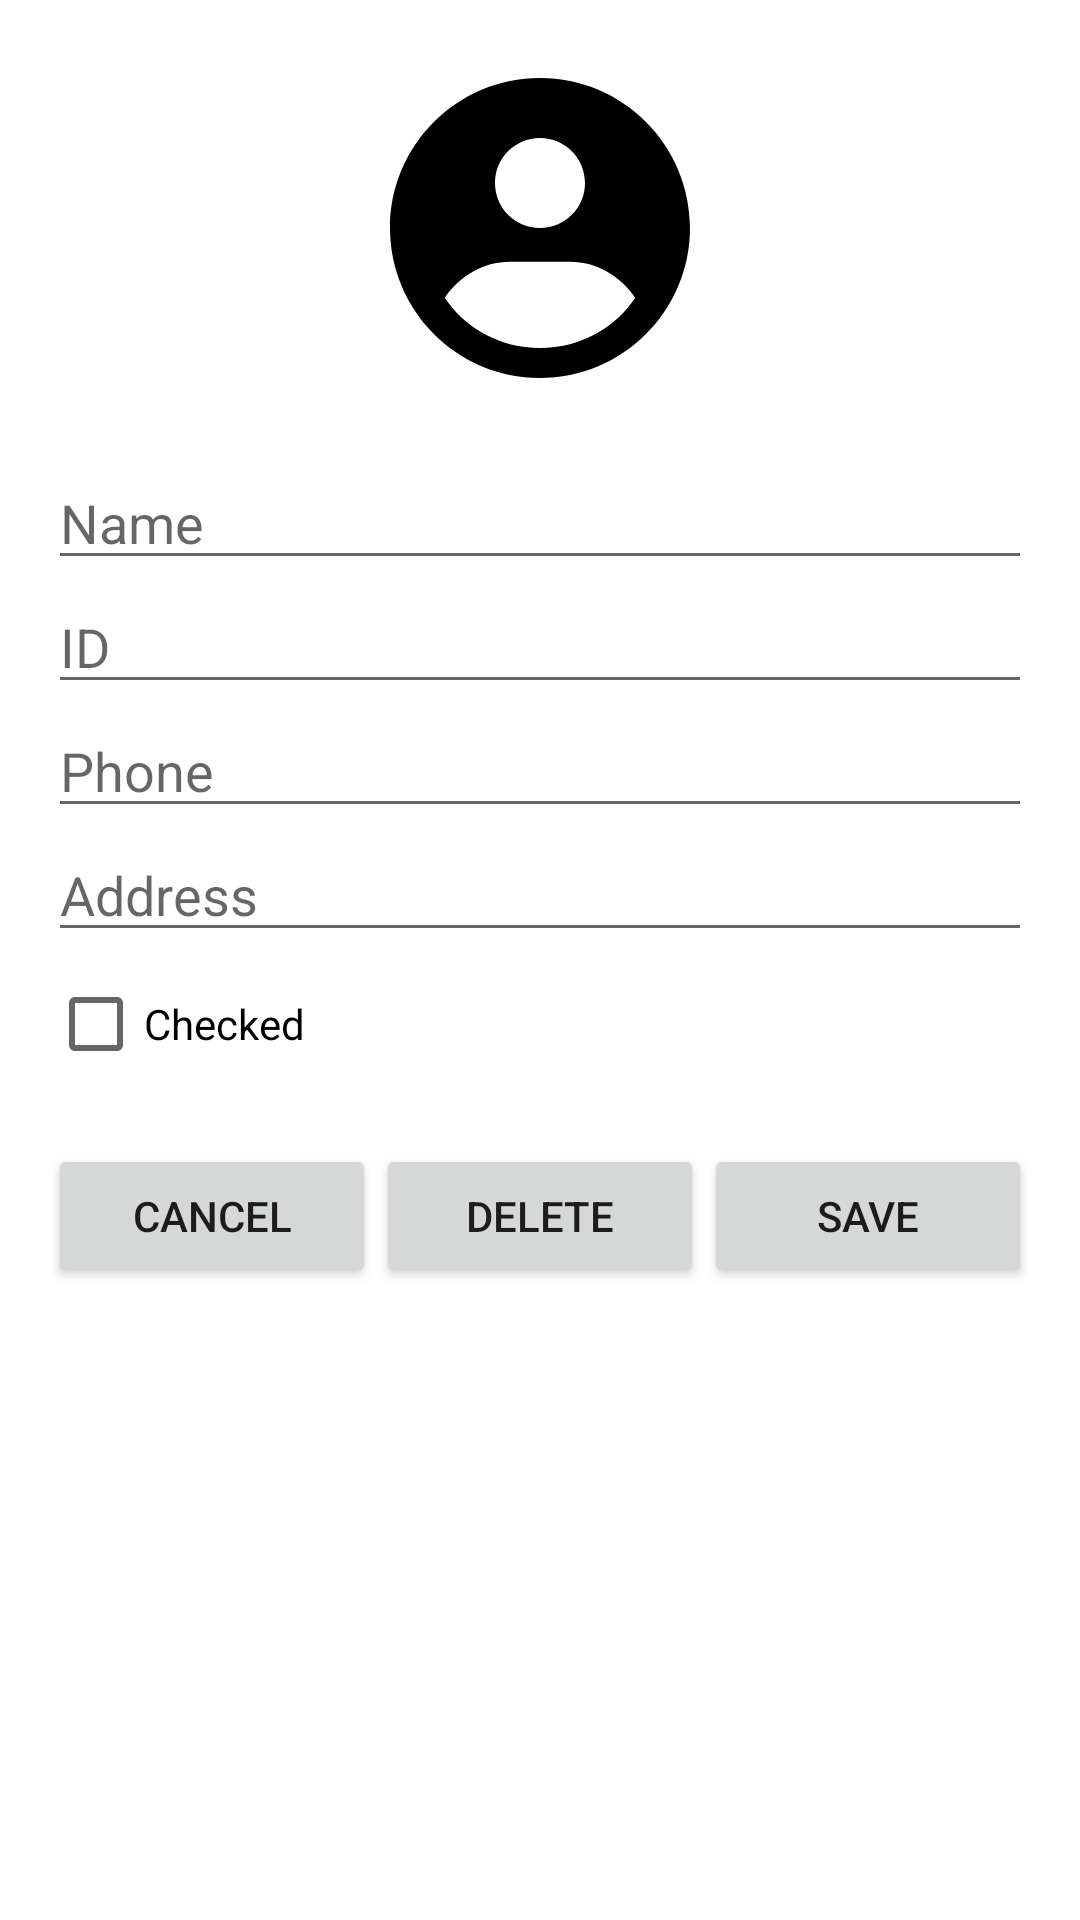

Icons on this 1080px x 1920px Android screen, each with its box as (x1, y1, x2, y2):
profile: (390, 78, 690, 378)
